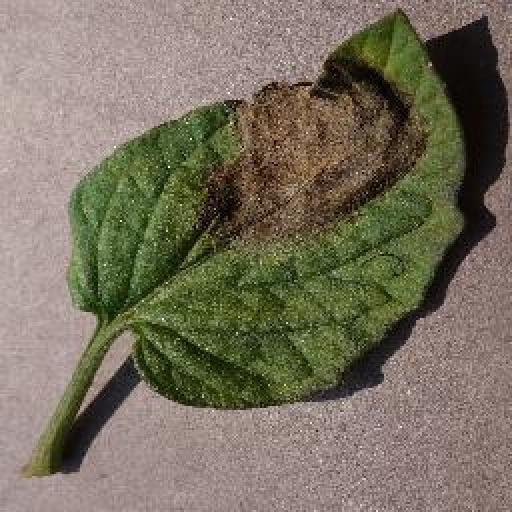Late Blight: (68, 9, 473, 411)
